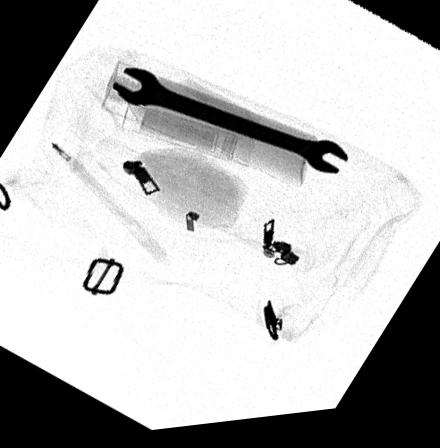Wrench: (111, 70, 346, 182)
